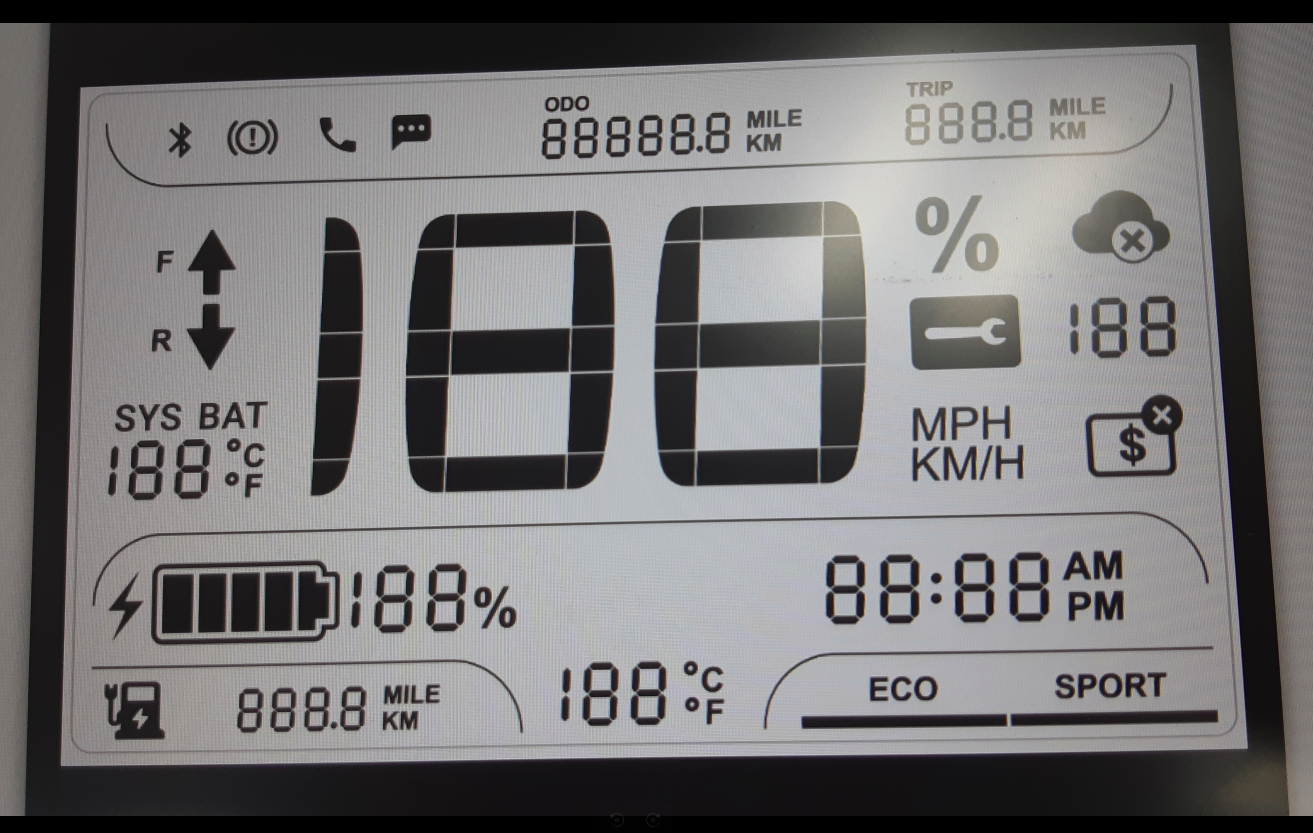bluetooth_on: (163, 117, 201, 162)
braking_on: (224, 116, 282, 161)
calling_on: (315, 113, 360, 159)
connection_lost: (1064, 184, 1173, 268)
error_code: (903, 289, 1027, 373)
low_battery: (100, 676, 170, 746)
sms_on: (385, 111, 435, 158)
vin_id: (1079, 389, 1188, 484)
